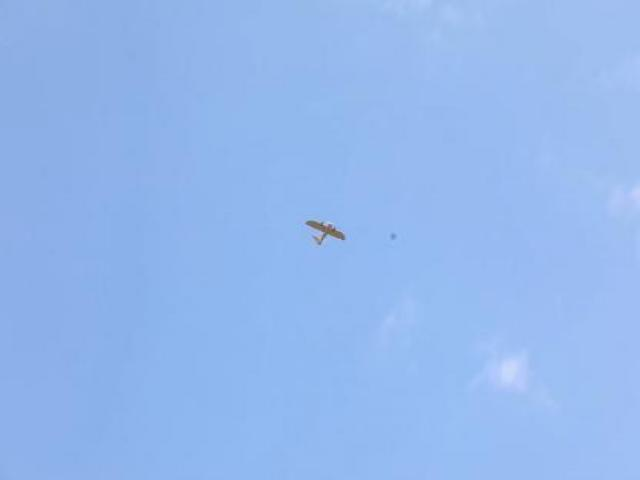uav: (304, 214, 348, 252)
